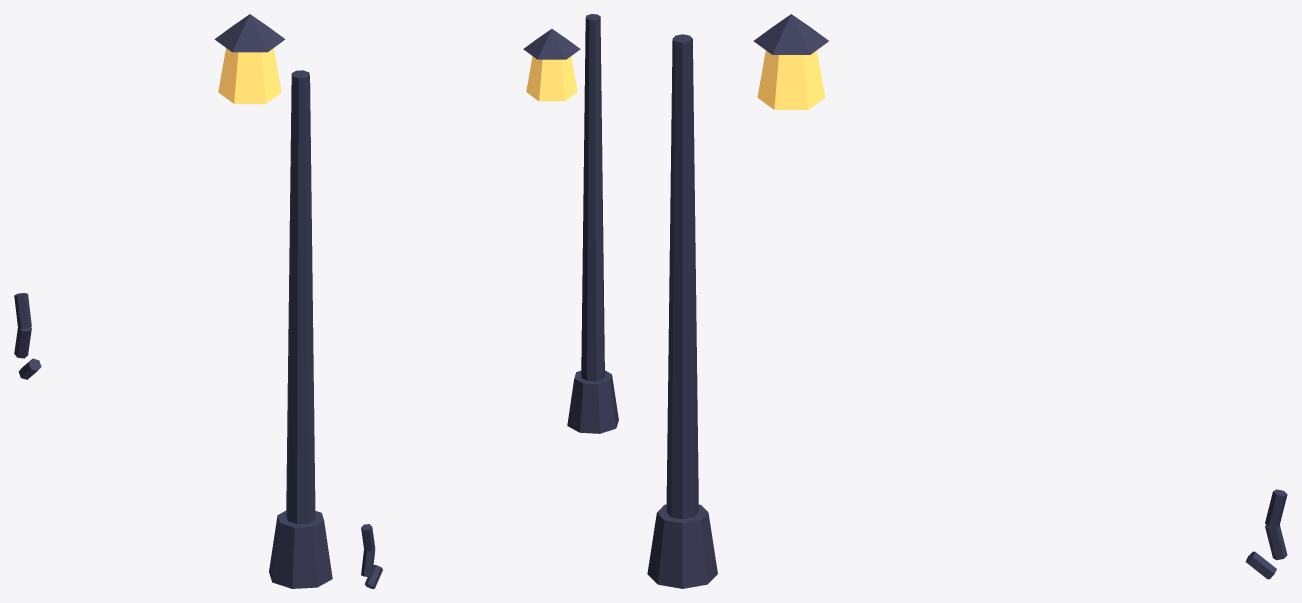
File: street_lamp.glb
3 renders of one model, left to right at view 1: azimuth 30°, elevation 25°; view 2: azimuth 150°, elevation 25°; view 3: azimuth 270°, elevation 25°, orthographic. The views are drawn at different scales.
Visible parts, largest first — view 1: street_lamp; view 2: street_lamp; view 3: street_lamp.
Part boxes in pixels (x1,y1,x2,y2): street_lamp: [14, 14, 332, 588]; street_lamp: [361, 14, 618, 588]; street_lamp: [647, 14, 1287, 588].
Size of the model in its own units: 0.52 by 4.59 by 4.71.
